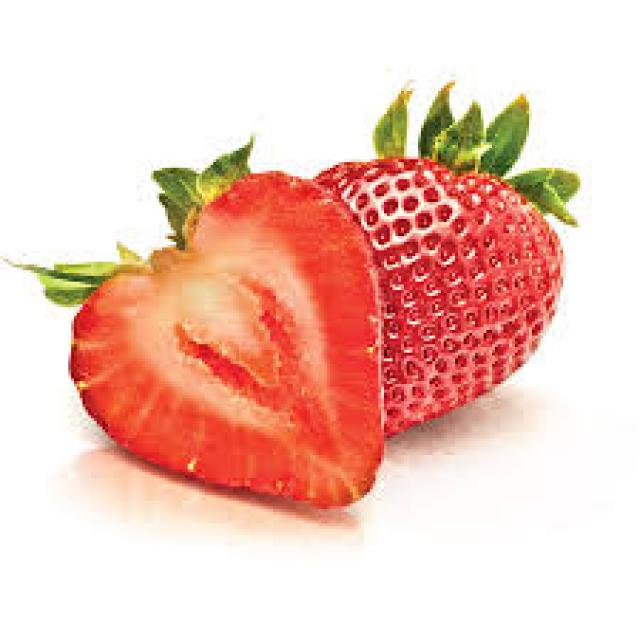strawberry: (42, 200, 405, 526), (296, 130, 570, 441)
